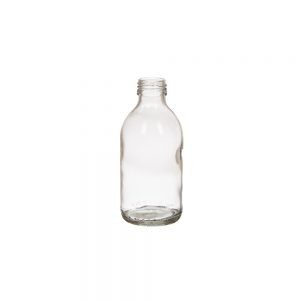container: (117, 71, 186, 228)
